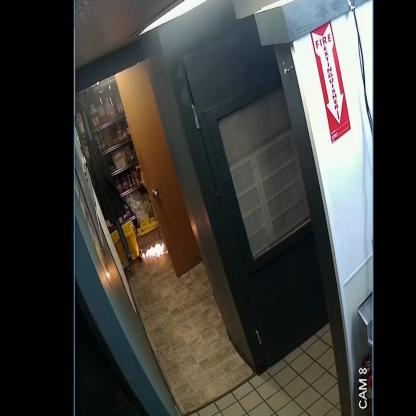fire: (142, 243, 166, 258)
